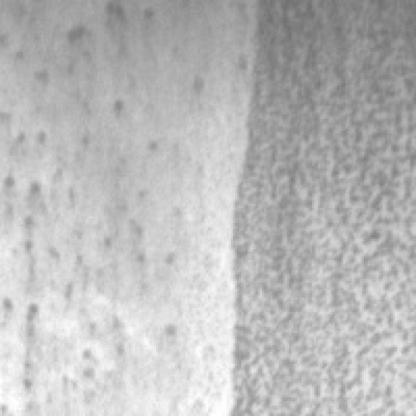pitted_surface: (231, 0, 411, 410), (0, 2, 177, 400)
